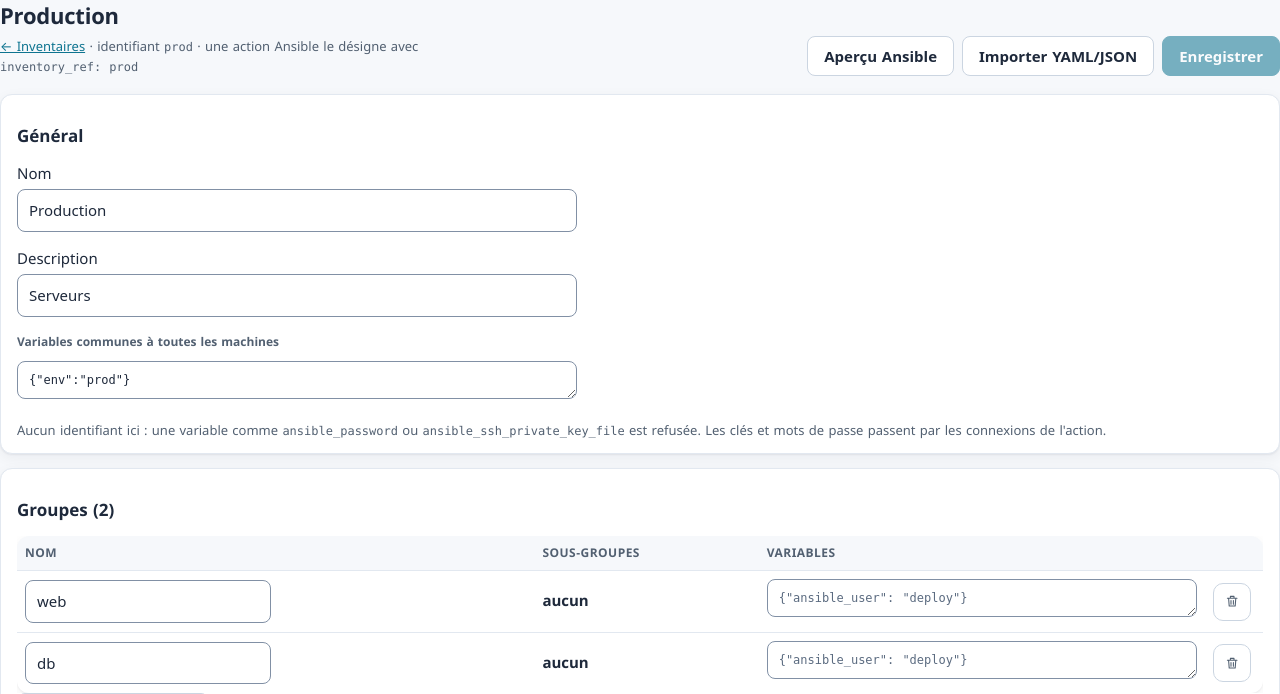
Scenario: Inventaire : édition › importe un inventaire YAML/JSON en remplaçant l'édition, sans rien enregistrer
The width and height of the screenshot is (1280, 694).
Click the button "Importer YAML/JSON". click: (1058, 56)
box: [962,36,1154,76]
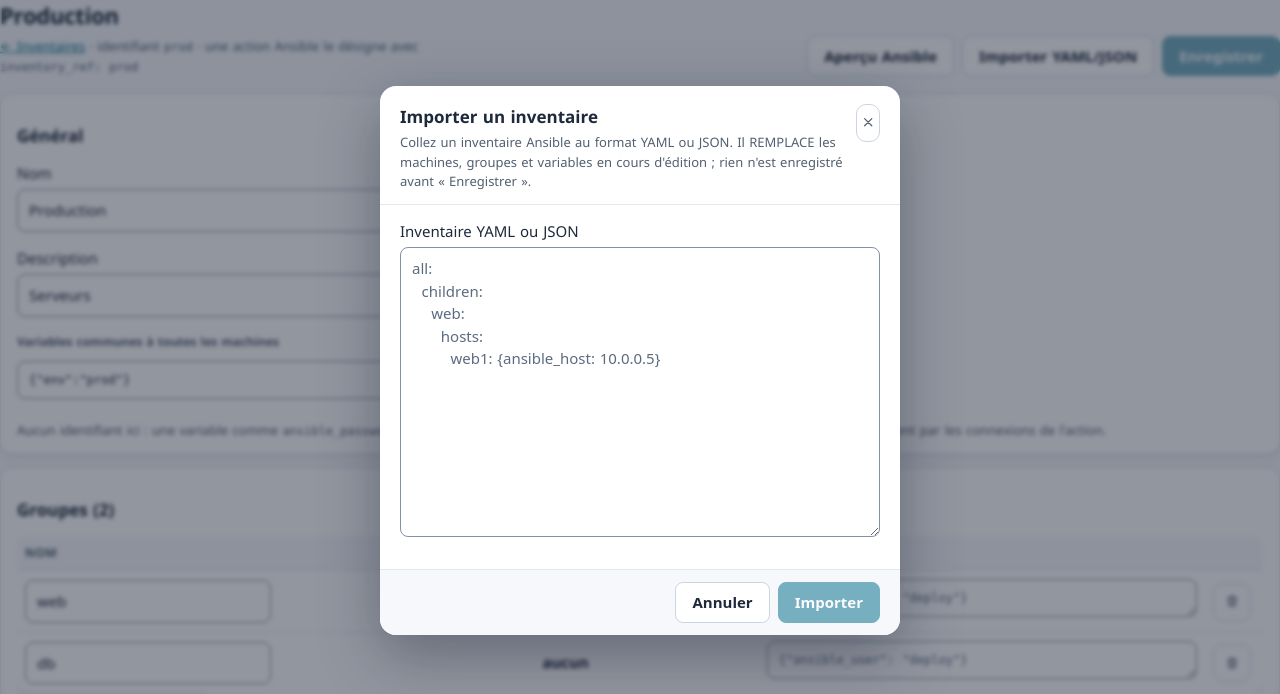
Click the text box labelled "Inventaire YAML ou JSON". click: (640, 392)
box: [400,247,880,537]
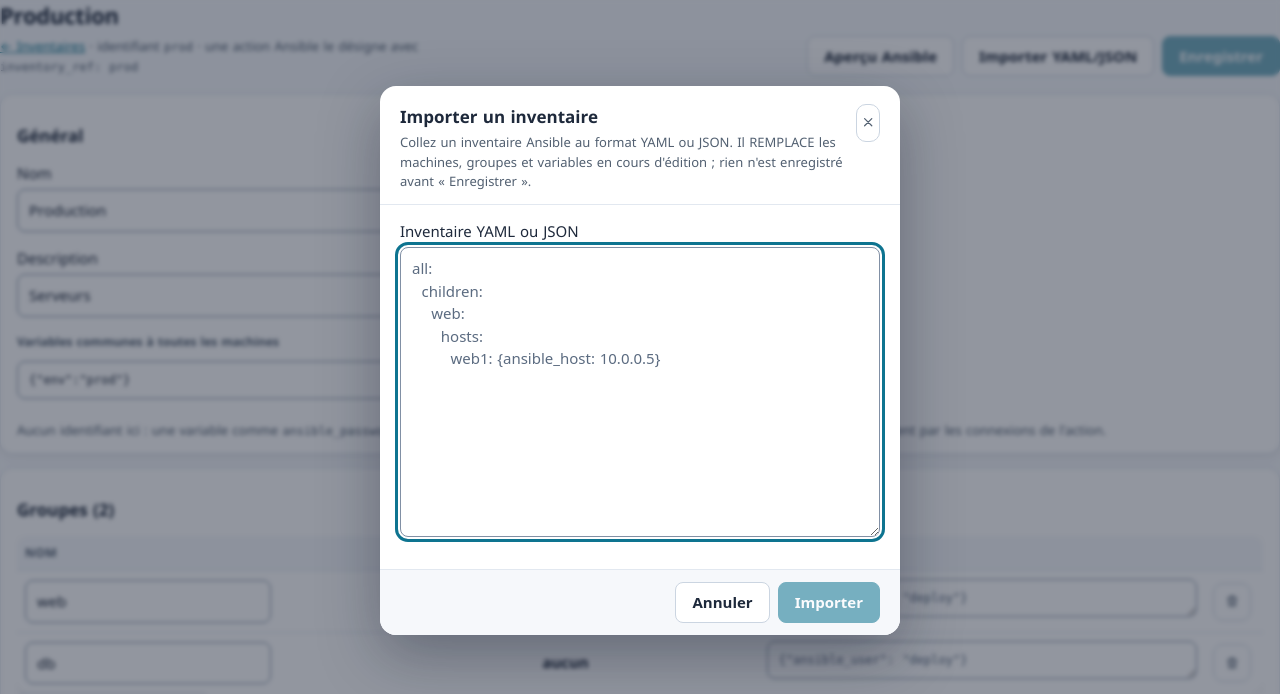
Type keys "all: {}"
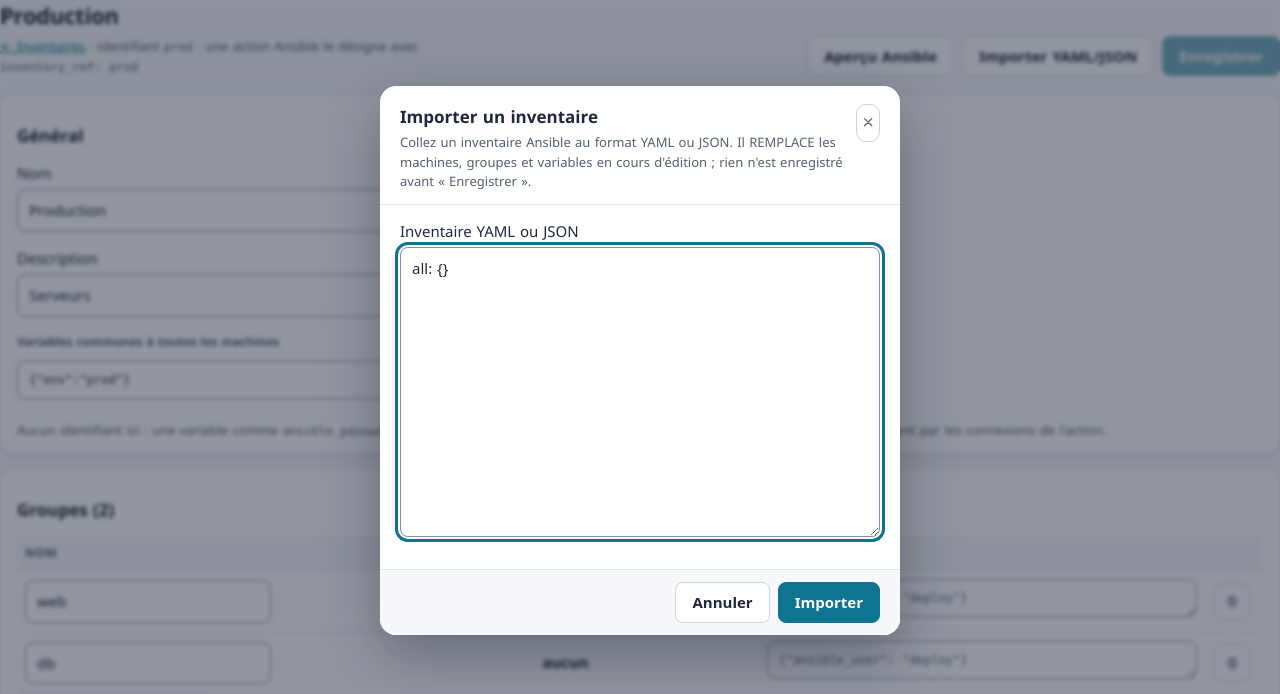
Click the button "Importer". click: (829, 602)
box: [778,582,880,622]
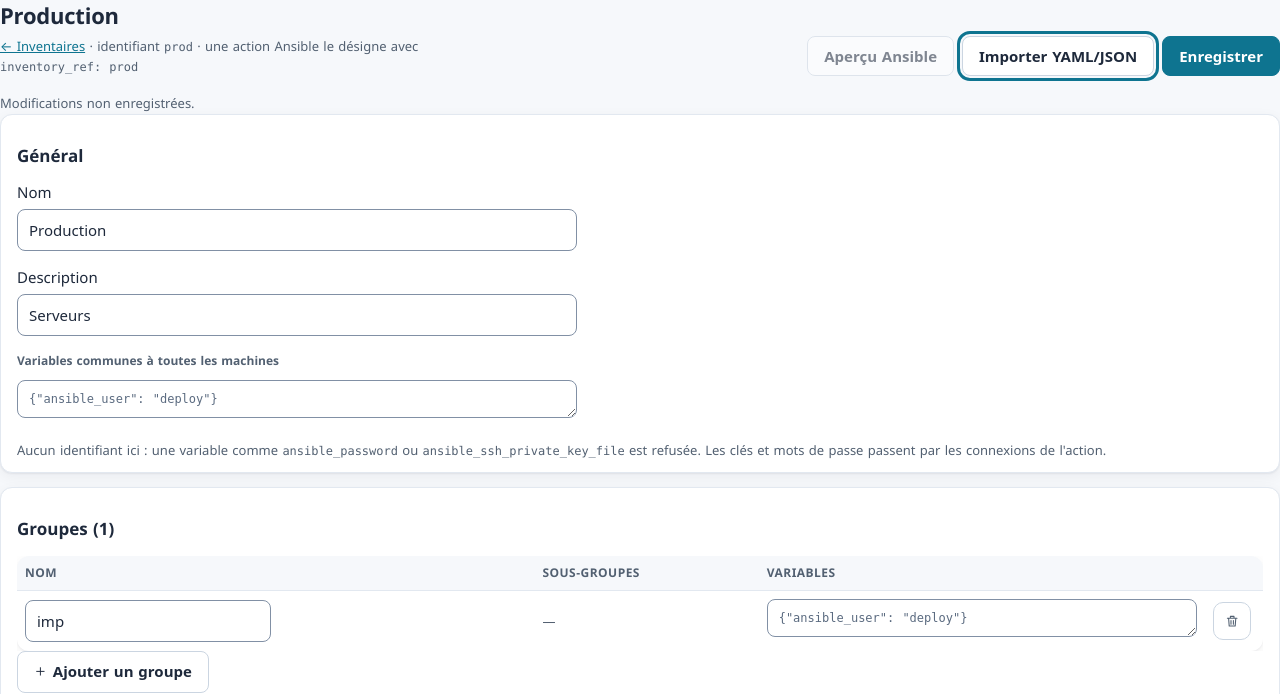
Check: the button "Enregistrer" is enabled, box [1162,36,1279,76]
